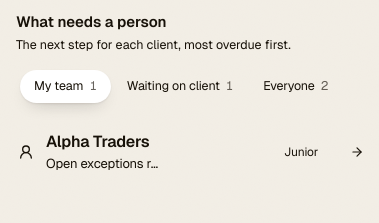
Test: NeedsYou › lists clients that are waiting on their client under their own tab
Click the tab "Waiting on client 1".
click(180, 87)  # box [113, 70, 247, 103]
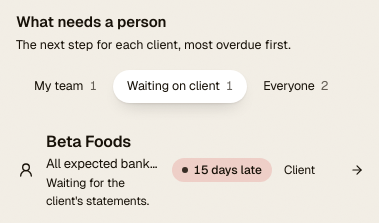
Result: the text "Beta Foods" is shown at [46, 131, 131, 152]
